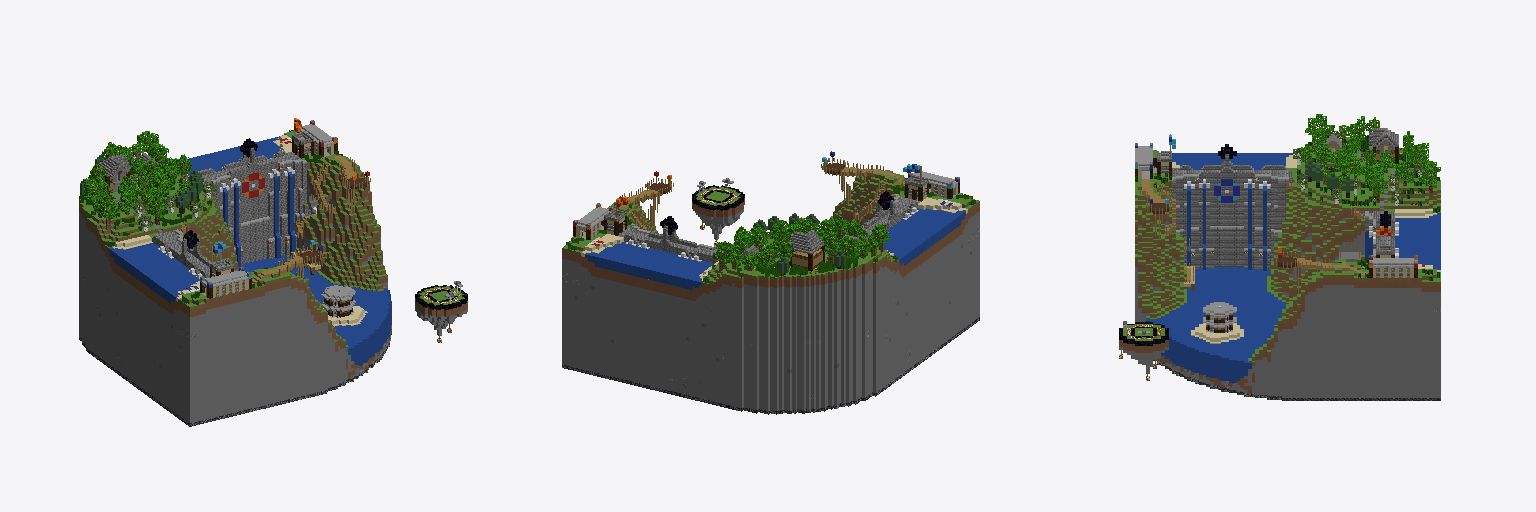
3 renders of one model, left to right at view 1: azimuth 30°, elevation 25°; view 2: azimuth 150°, elevation 25°; view 3: azimuth 270°, elevation 25°, orthographic.
Bounding box in the file's own units: 85 × 49 × 85.
57 materials, 32 textured.